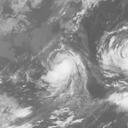cyclone: (47, 52, 78, 91), (110, 36, 127, 67)
